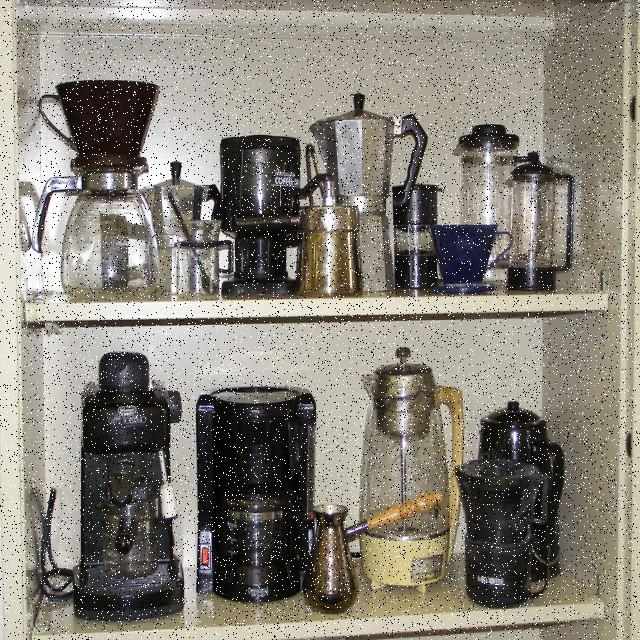Coffee-Machine: (44, 339, 200, 635), (198, 372, 338, 628), (346, 343, 472, 624), (32, 65, 180, 301), (319, 87, 435, 295), (460, 440, 576, 616), (212, 120, 312, 300), (445, 100, 523, 280), (509, 133, 587, 293)
